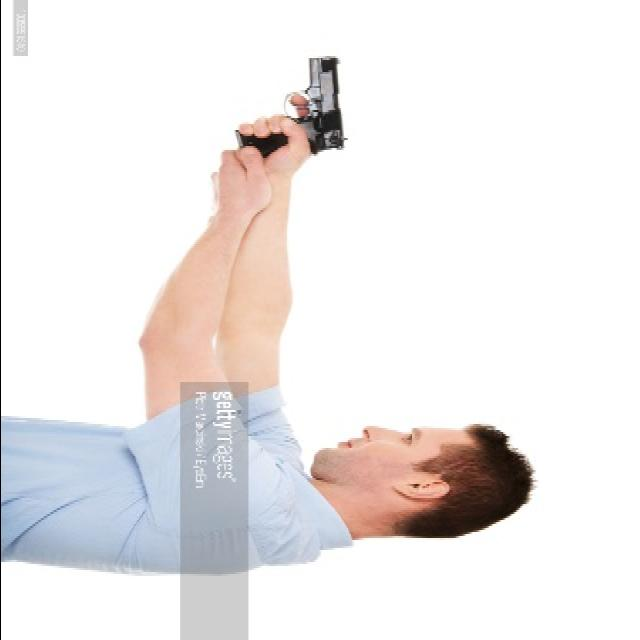handgun: (238, 53, 354, 157)
